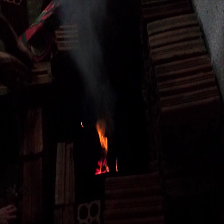fire_l: (96, 120, 108, 153), (95, 158, 109, 175), (115, 160, 118, 171), (80, 121, 83, 127)
